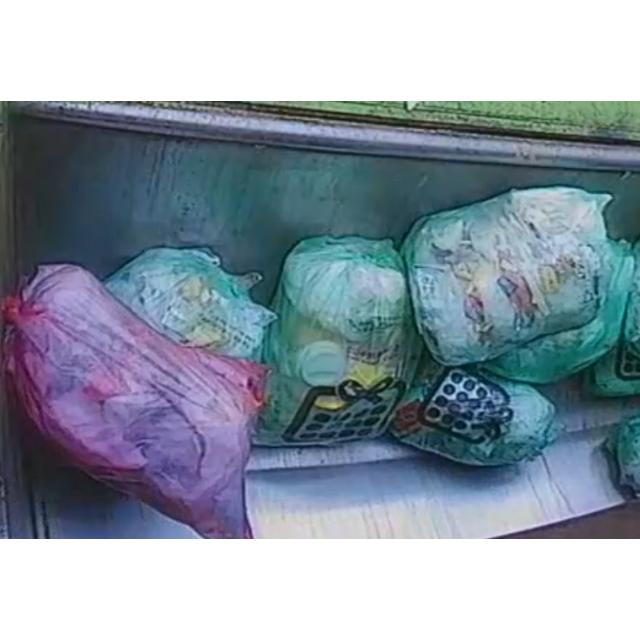general_trashbag: (401, 187, 629, 366), (256, 236, 416, 445), (479, 243, 634, 384), (105, 248, 276, 362), (390, 351, 558, 466)
other_trashbag: (5, 265, 266, 538)
